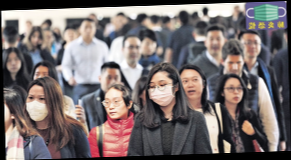with_mask: (148, 78, 175, 108), (25, 92, 49, 120)
without_mask: (103, 95, 128, 119), (181, 74, 204, 100), (224, 82, 244, 104), (242, 37, 262, 58), (101, 71, 121, 92), (207, 34, 225, 55), (124, 42, 141, 63), (5, 55, 22, 73), (225, 59, 244, 75), (80, 23, 97, 40), (141, 40, 157, 55), (29, 34, 42, 47)
